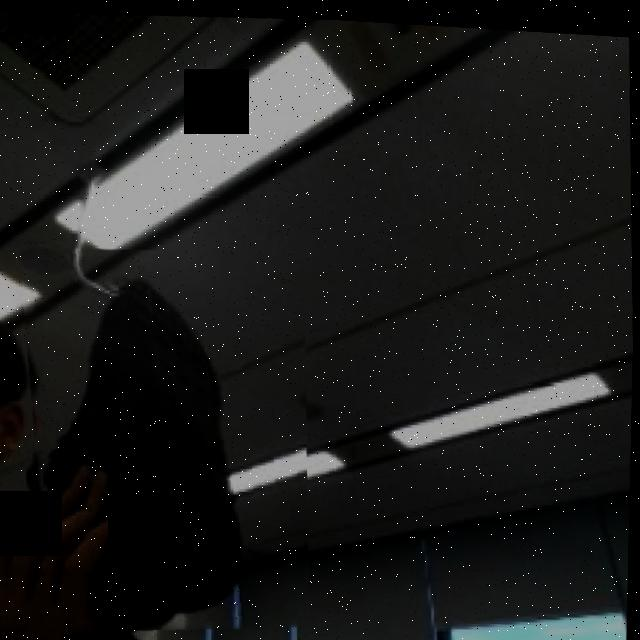shoe: (13, 237, 318, 640)
